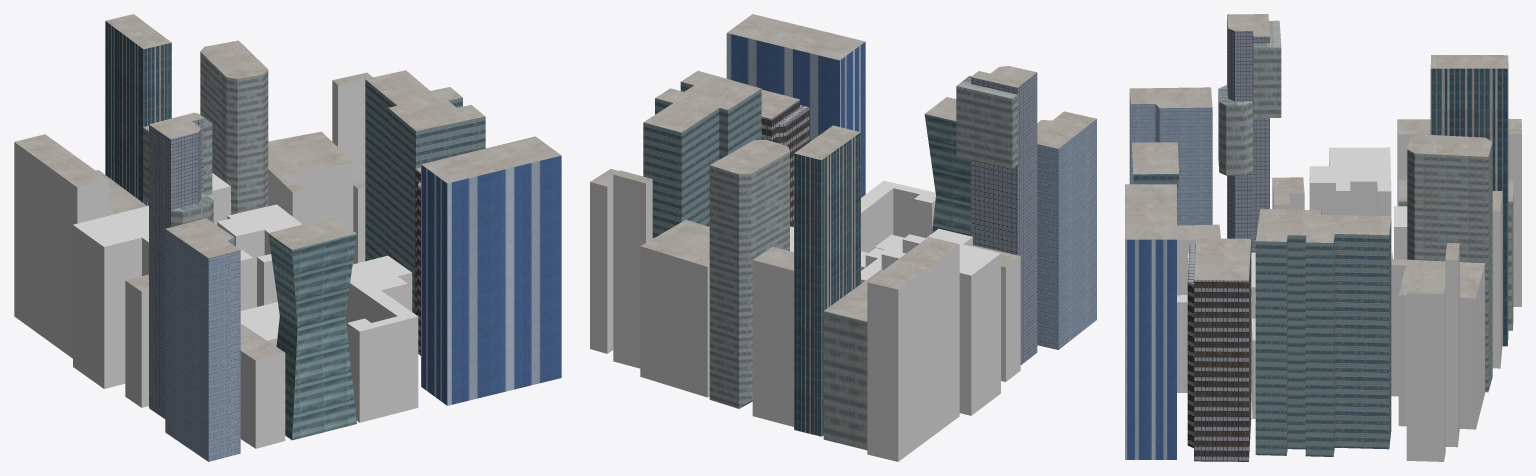
Rendered from ciudad.fbx.
3 renders of one model, left to right at view 1: azimuth 30°, elevation 25°; view 2: azimuth 150°, elevation 25°; view 3: azimuth 270°, elevation 25°, orthographic.
Parts seen in each view (by area): view 1: escenario_parkour, Edificio004, Azoteas, Edificio008, Edificio006, Edificio003, Edificio005, Edificio001, Edificio009, Edificio009_extrusiones, Edificio002; view 2: escenario_parkour, Azoteas, Edificio005, Edificio001, Edificio008, Edificio009, Edificio003, Edificio004, Edificio007, Edificio009_extrusiones, Edificio006, Edificio002; view 3: Edificio003, escenario_parkour, Azoteas, Edificio002, Edificio004, Edificio001, Edificio005, Edificio008, Edificio009, Edificio009_extrusiones, Edificio007, Edificio006.
Boxes of the visible parts, left/top/right/bottom form: escenario_parkour: left=14, top=77, right=418, bottom=448; Edificio004: left=421, top=155, right=561, bottom=405; Azoteas: left=14, top=14, right=561, bottom=360; Edificio008: left=165, top=229, right=240, bottom=461; Edificio006: left=268, top=233, right=356, bottom=440; Edificio003: left=365, top=79, right=485, bottom=313; Edificio005: left=105, top=21, right=171, bottom=205; Edificio001: left=200, top=52, right=268, bottom=214; Edificio009: left=149, top=118, right=203, bottom=418; Edificio009_extrusiones: left=143, top=113, right=213, bottom=227; Edificio002: left=415, top=169, right=420, bottom=355; escenario_parkour: left=590, top=174, right=1020, bottom=461; Azoteas: left=590, top=14, right=1096, bottom=321; Edificio005: left=794, top=132, right=860, bottom=436; Edificio001: left=709, top=152, right=789, bottom=408; Edificio008: left=1037, top=119, right=1096, bottom=349; Edificio009: left=971, top=72, right=1037, bottom=364; Edificio003: left=643, top=82, right=761, bottom=238; Edificio004: left=726, top=33, right=865, bottom=197; Edificio007: left=823, top=311, right=867, bottom=450; Edificio009_extrusiones: left=956, top=75, right=1017, bottom=168; Edificio006: left=924, top=114, right=970, bottom=236; Edificio002: left=761, top=99, right=809, bottom=227; Edificio003: left=1255, top=210, right=1391, bottom=456; escenario_parkour: left=1177, top=121, right=1521, bottom=461; Azoteas: left=1125, top=14, right=1521, bottom=298; Edificio002: left=1187, top=239, right=1251, bottom=461; Edificio004: left=1125, top=239, right=1176, bottom=459; Edificio001: left=1407, top=142, right=1492, bottom=392; Edificio005: left=1430, top=63, right=1508, bottom=346; Edificio008: left=1129, top=92, right=1212, bottom=225; Edificio009: left=1227, top=15, right=1269, bottom=252; Edificio009_extrusiones: left=1218, top=20, right=1281, bottom=175; Edificio007: left=1398, top=195, right=1513, bottom=330; Edificio006: left=1133, top=174, right=1178, bottom=198.
Bounding box in the file's own units: 8372 × 6992 × 8085.
